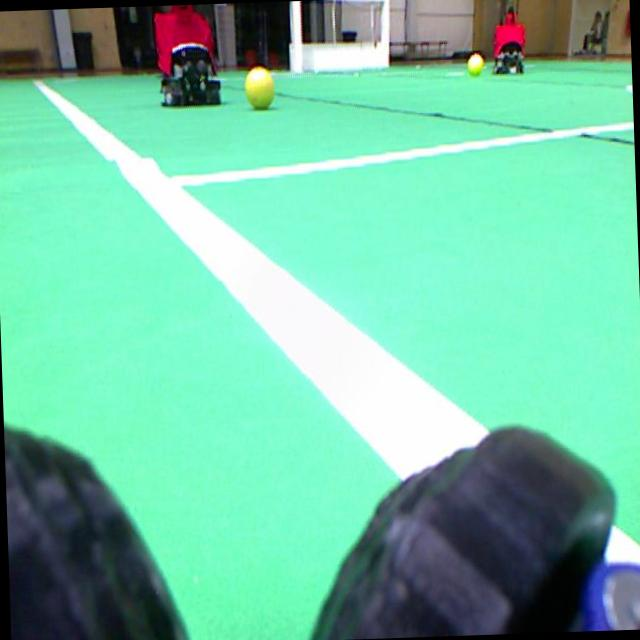ball: (245, 66, 273, 109), (467, 52, 483, 75)
goal: (289, 1, 302, 71), (380, 0, 389, 66)
